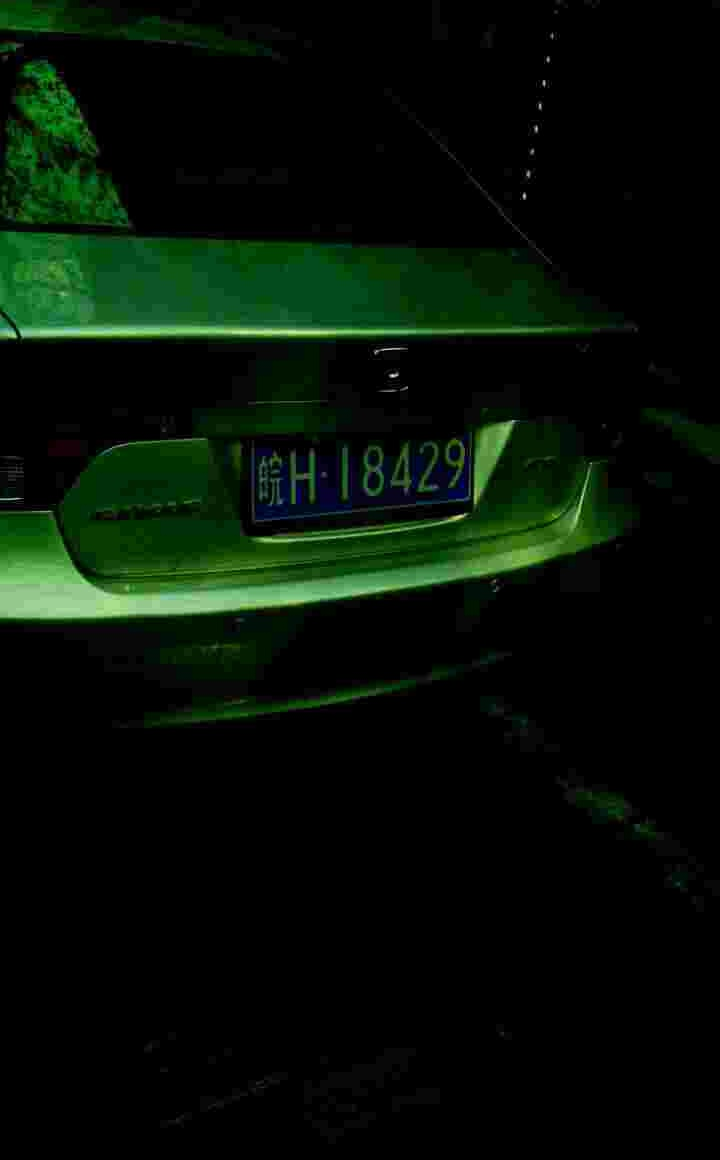license_plate: (253, 438, 482, 519)
